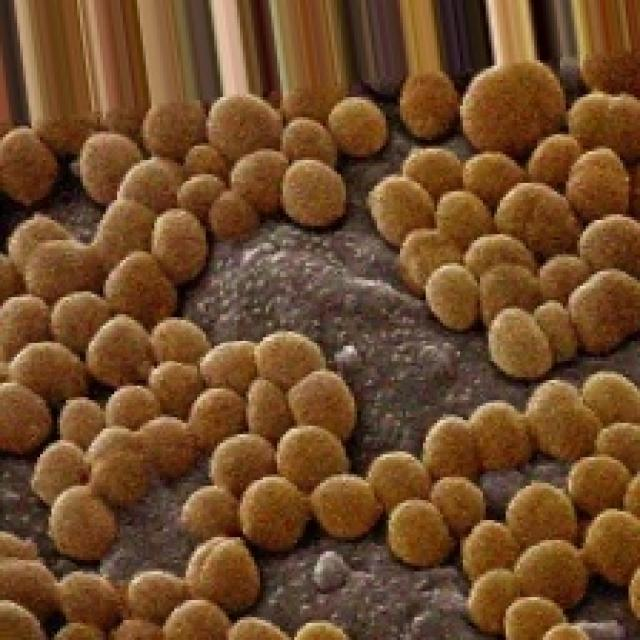Spherical_bacteria: (0, 40, 637, 637)
